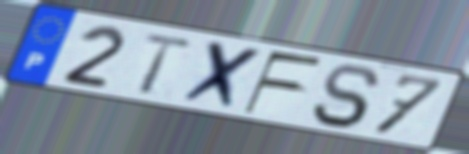2: (59, 24, 127, 92)
7: (371, 71, 446, 137)
F: (240, 49, 327, 117)
S: (308, 62, 384, 131)
T: (136, 31, 198, 96)
X: (176, 38, 268, 114)
